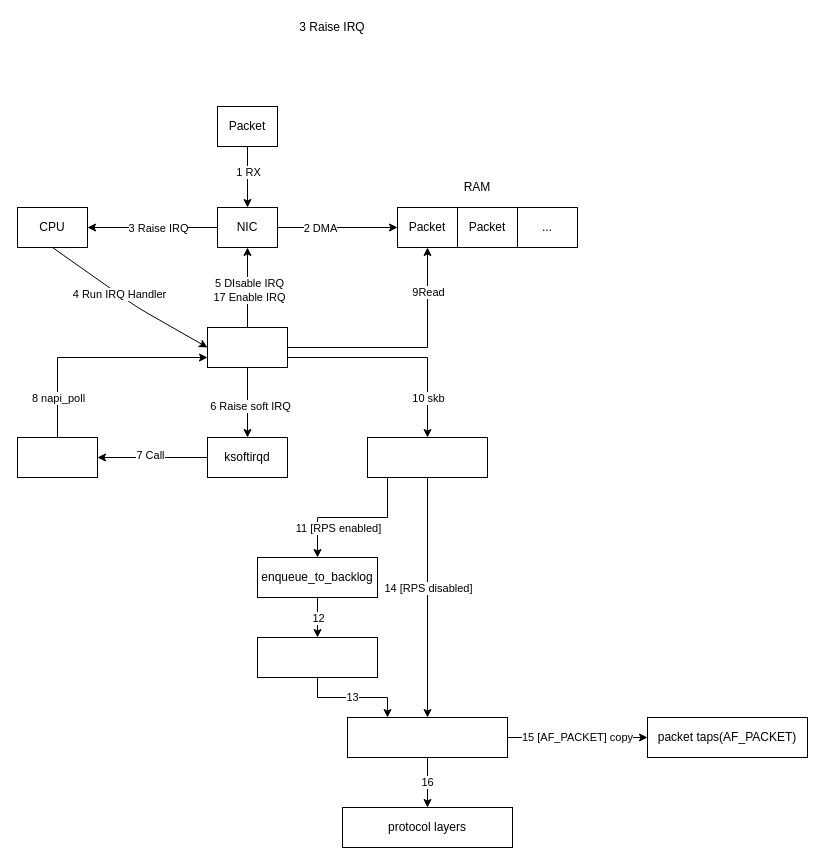
The diagram is 825 pixels wide and 865 high, and some of its shapes have lost their labels. The shapes that lost their labels are listed below. From the top down, each one's box as (x1, y1, x2, y2) in pixels, then its label:
(206, 326, 288, 368): NIC Driver
(16, 436, 98, 478): net_rx_action
(366, 436, 488, 478): napi_gro_receive
(256, 636, 378, 678): CPU input_pkt_queue
(346, 716, 508, 758): __netif_receive_skb_core
